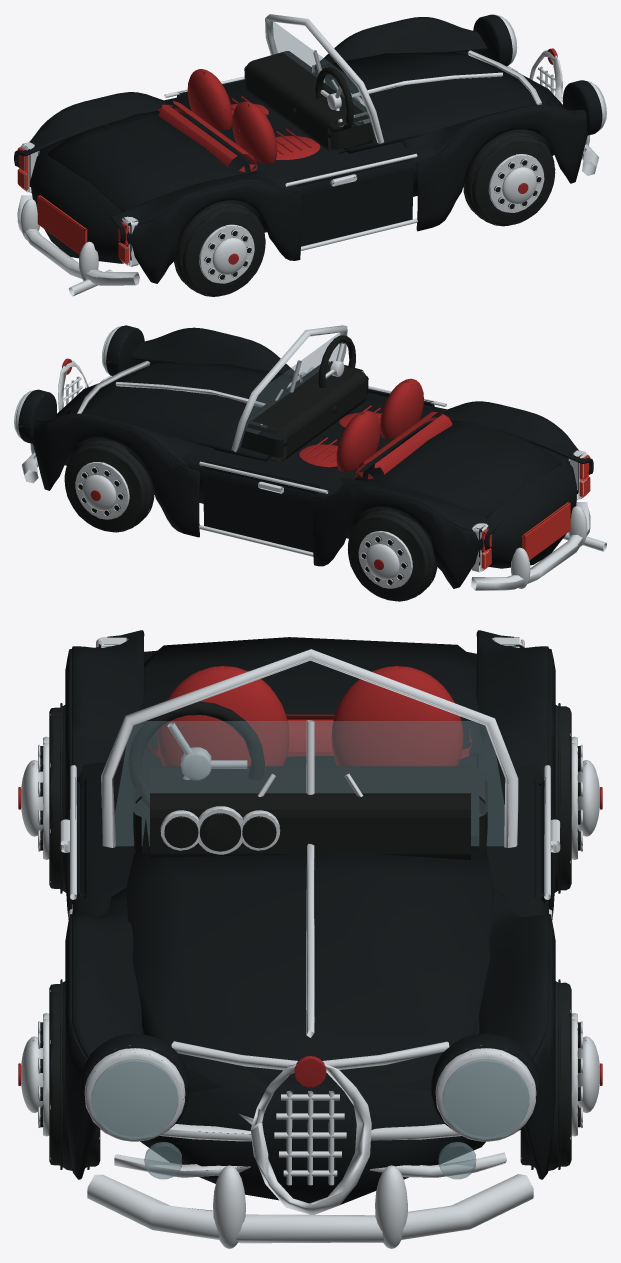
Rendered from alfa-romeo-giulia-spider-v2.glb.
The picture shows the model from 3 angles, top to bottom: view 1: azimuth 30°, elevation 25°; view 2: azimuth 150°, elevation 25°; view 3: azimuth 270°, elevation 25°; orthographic projection. The views are drawn at different scales.
Visible parts, largest first — view 1: Continuous lower coachwork, hood, trunk-lid, Right rear fender, Right front fender, right-door, Dashboard, Left front fender, Left rear fender, front-wheel-right inner tire, rear-wheel-right inner tire, Right seat back (+24 smaller); view 2: Continuous lower coachwork, hood, trunk-lid, Left rear fender, Left front fender, Dashboard, left-door, Right front fender, Right rear fender, front-wheel-left inner tire, rear-wheel-left inner tire, Left seat back (+24 smaller); view 3: hood, Continuous lower coachwork, Dashboard, trunk-lid, Right windshield glass, Left windshield glass, Right front fender, Left front fender, Front bumper, Left seat back, Left rear fender, Right rear fender (+44 smaller).
Boxes of the visible parts, box(x1,y1,x2,y2) form: Continuous lower coachwork: box(30, 51, 563, 263); hood: box(314, 52, 554, 153); trunk-lid: box(47, 110, 255, 211); Right rear fender: box(110, 171, 301, 283); Right front fender: box(402, 104, 587, 231); right-door: box(294, 153, 413, 246); Dashboard: box(244, 51, 375, 153); Left front fender: box(314, 17, 487, 65); Left rear fender: box(14, 92, 180, 186); front-wheel-right inner tire: box(463, 131, 555, 225); rear-wheel-right inner tire: box(175, 208, 265, 295); Right seat back: box(232, 101, 277, 164); Continuous lower coachwork: box(56, 361, 576, 568); hood: box(65, 363, 293, 461); trunk-lid: box(355, 420, 561, 518); Left rear fender: box(313, 478, 499, 588); Left front fender: box(30, 413, 213, 537); Dashboard: box(239, 361, 368, 461); left-door: box(203, 461, 319, 552); Right front fender: box(131, 327, 298, 375); Right rear fender: box(433, 401, 593, 493); front-wheel-left inner tire: box(64, 446, 154, 531); rear-wheel-left inner tire: box(347, 515, 436, 600); Left seat back: box(336, 410, 380, 471); hood: box(126, 835, 493, 1091); Continuous lower coachwork: box(72, 650, 548, 1204); Dashboard: box(133, 766, 487, 859); trunk-lid: box(138, 637, 481, 756); Right windshield glass: box(115, 721, 309, 845); Left windshield glass: box(310, 721, 504, 845); Right front fender: box(65, 887, 141, 1179); Left front fender: box(479, 887, 555, 1179); Front bumper: box(87, 1174, 533, 1243); Left seat back: box(331, 666, 463, 766); Left rear fender: box(476, 630, 555, 919); Right rear fender: box(65, 630, 144, 919).
Bounding box in the file's own units: 4 × 1.4 × 1.95.
